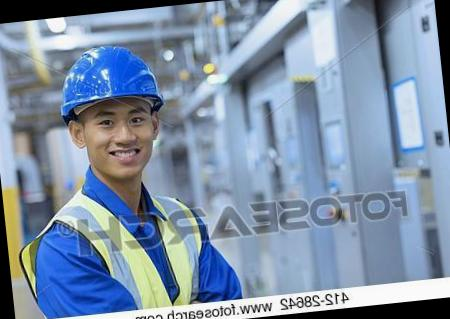helmet: (52, 36, 168, 116)
person: (0, 25, 244, 319)
